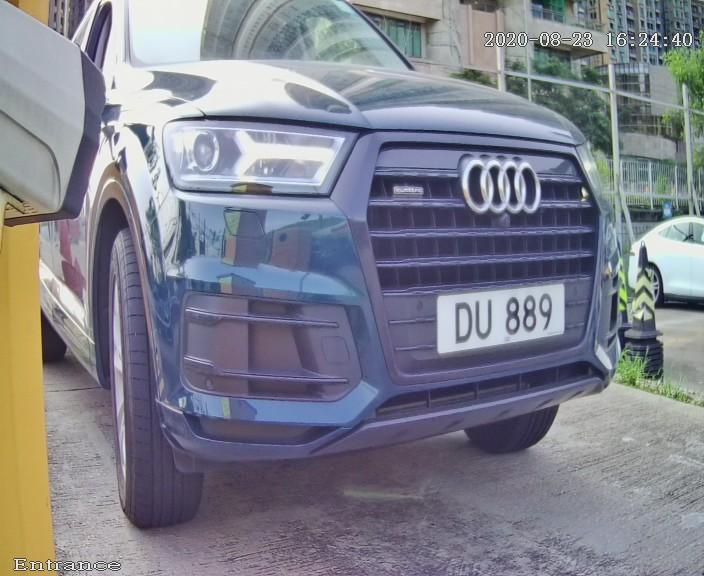License Plate: (425, 273, 569, 366)
